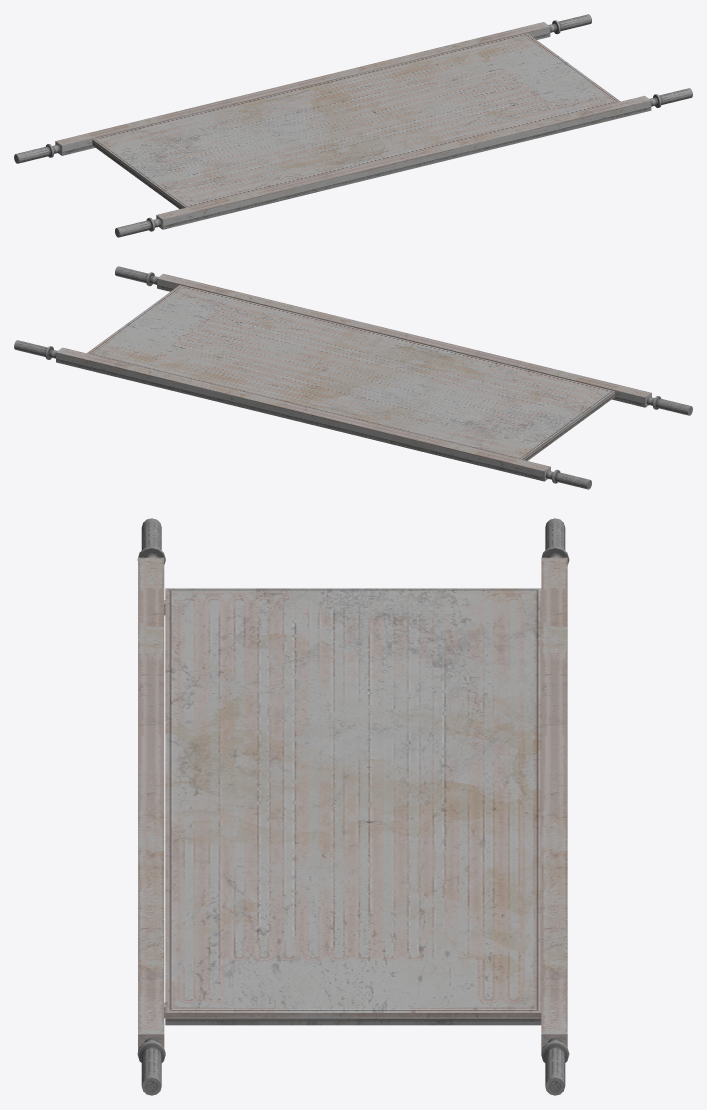
File: HH_Stretcher_01.fbx
The picture shows the model from 3 angles, top to bottom: view 1: azimuth 30°, elevation 25°; view 2: azimuth 150°, elevation 25°; view 3: azimuth 270°, elevation 25°; orthographic projection. The views are drawn at different scales.
Parts seen in each view (by area): view 1: HH_Stretcher_01_LOD0; view 2: HH_Stretcher_01_LOD0; view 3: HH_Stretcher_01_LOD0.
Boxes of the visible parts, box(x1,y1,x2,y2) form: HH_Stretcher_01_LOD0: box(14, 14, 692, 237); HH_Stretcher_01_LOD0: box(14, 266, 692, 489); HH_Stretcher_01_LOD0: box(137, 518, 569, 1095).
Size of what is drawn, in the model's own units: 293 by 6.2 by 95.43.
